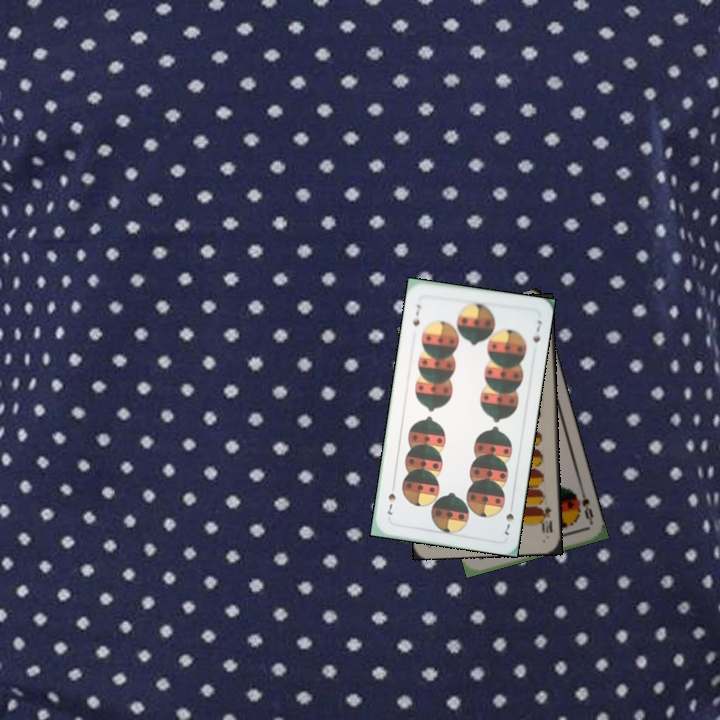E10: (536, 503, 555, 536)
S7: (500, 499, 516, 538), (409, 300, 423, 329)
SO: (577, 486, 596, 526)
